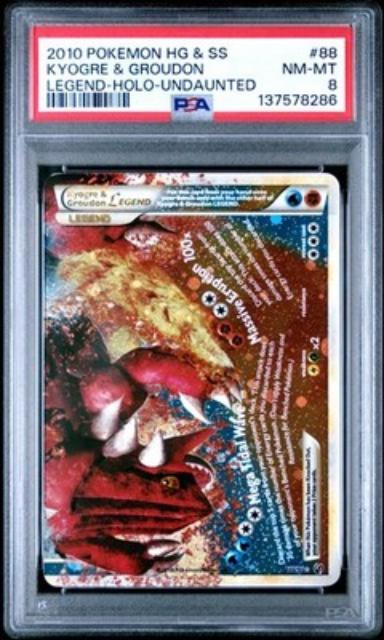Card: (37, 169, 347, 591)
Name: (61, 185, 158, 211)
